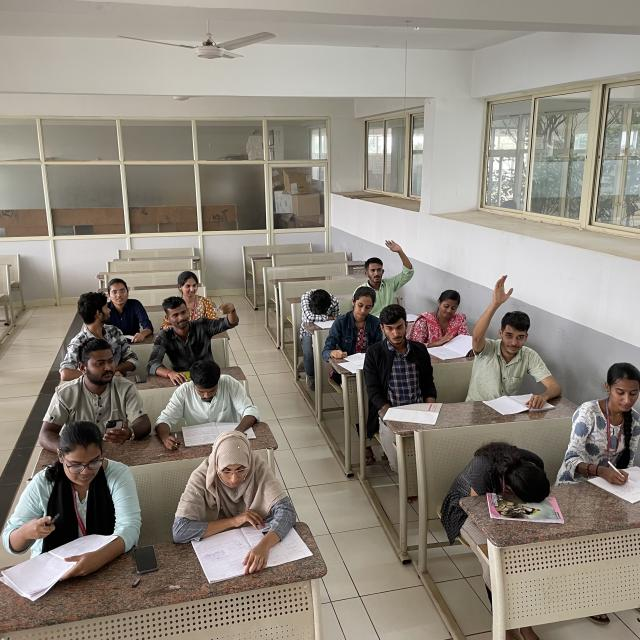Hand Rising: (478, 275, 550, 392), (357, 234, 412, 306)
Reading: (176, 431, 312, 570), (180, 358, 260, 438), (412, 290, 475, 354)
Sleeping: (449, 441, 554, 503), (296, 282, 344, 326)
Using Phone: (50, 337, 149, 449)
Writing: (5, 420, 120, 552), (564, 360, 640, 499), (330, 291, 392, 368)
